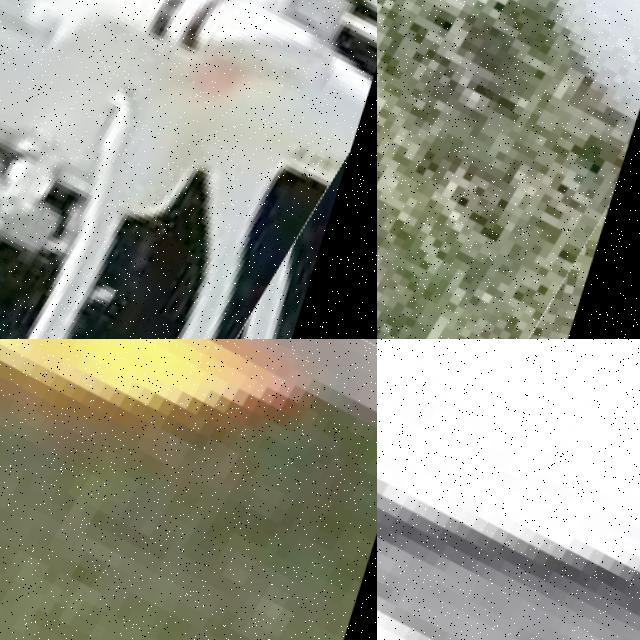0: (0, 339, 377, 640), (377, 0, 640, 339)
drone: (0, 0, 377, 339), (377, 339, 640, 640)
